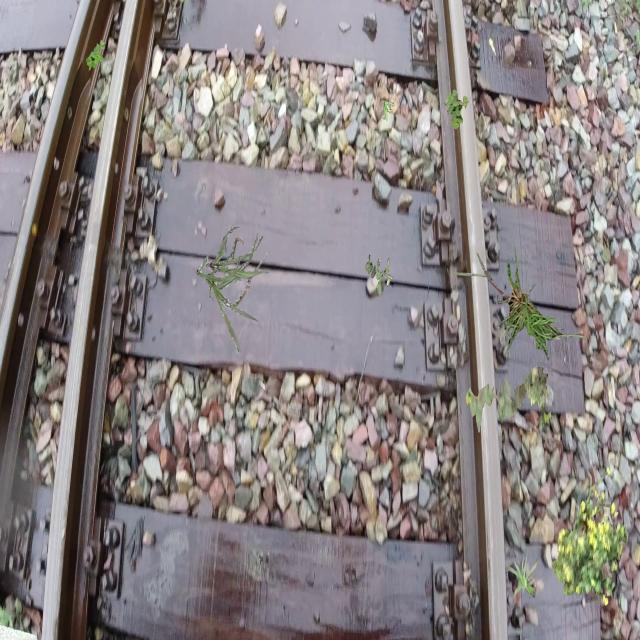Plant: (453, 241, 596, 360), (552, 467, 627, 607), (197, 227, 270, 352), (465, 366, 552, 434), (506, 553, 538, 599), (365, 255, 392, 296), (523, 366, 549, 408), (445, 89, 469, 130), (86, 40, 105, 72), (381, 101, 395, 122)
